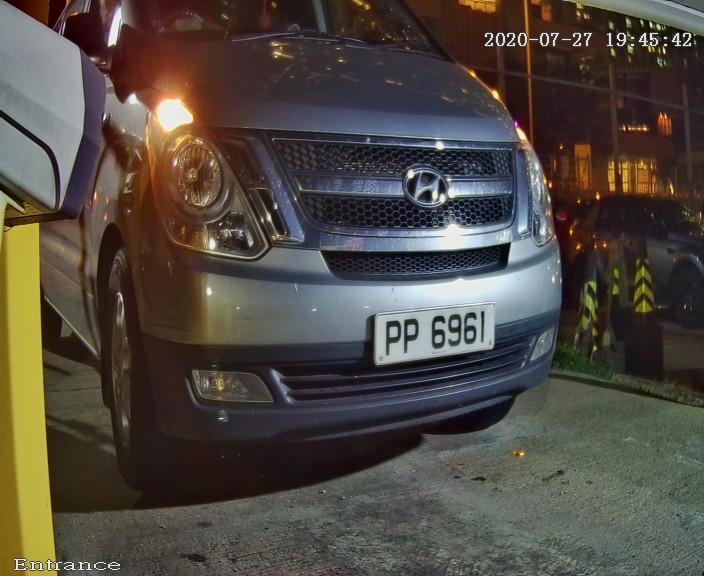privatecar: (35, 8, 607, 471)
